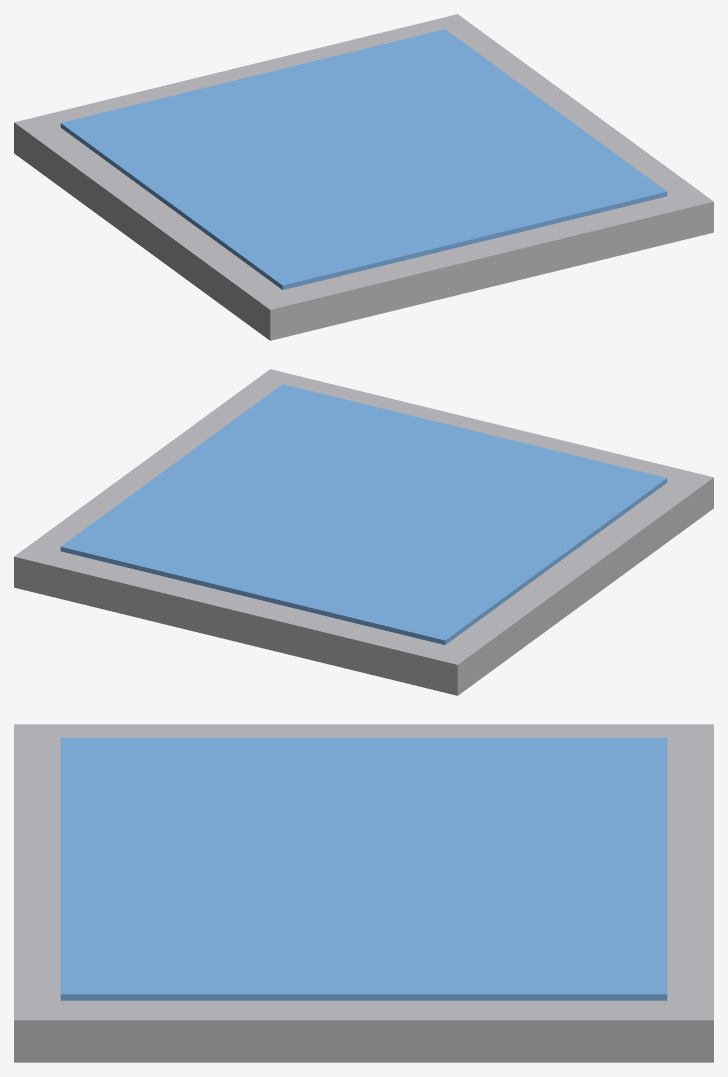
The model's file is Prop_DS_Water_PondEdge_V2.glb.
3 views of the same model, one above another, from view 1: azimuth 30°, elevation 25°; view 2: azimuth 150°, elevation 25°; view 3: azimuth 270°, elevation 25° (orthographic). The views are drawn at different scales.
Parts seen in each view (by area): view 1: Prop_DS_Water_PondEdge_V2; view 2: Prop_DS_Water_PondEdge_V2; view 3: Prop_DS_Water_PondEdge_V2.
Part boxes in pixels (x1,y1,x2,y2): Prop_DS_Water_PondEdge_V2: [14, 14, 713, 340]; Prop_DS_Water_PondEdge_V2: [14, 369, 713, 695]; Prop_DS_Water_PondEdge_V2: [14, 724, 713, 1062].
Size of the model in its own units: 3 by 0.23 by 3.
